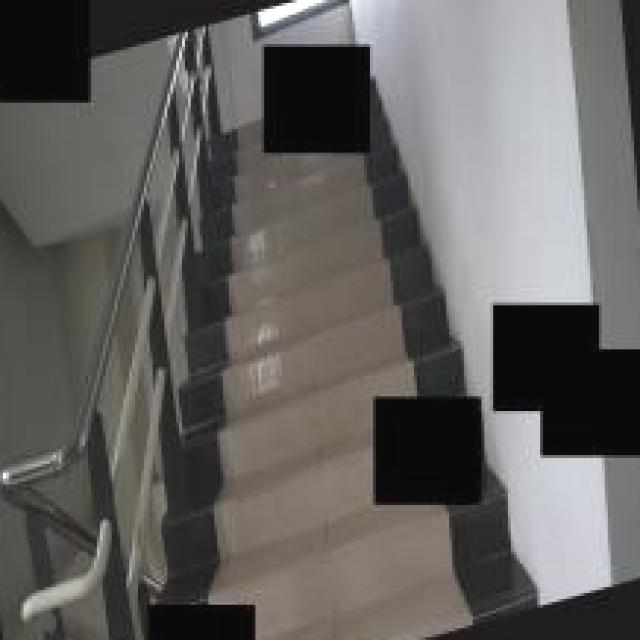upstair: (180, 168, 447, 383)
